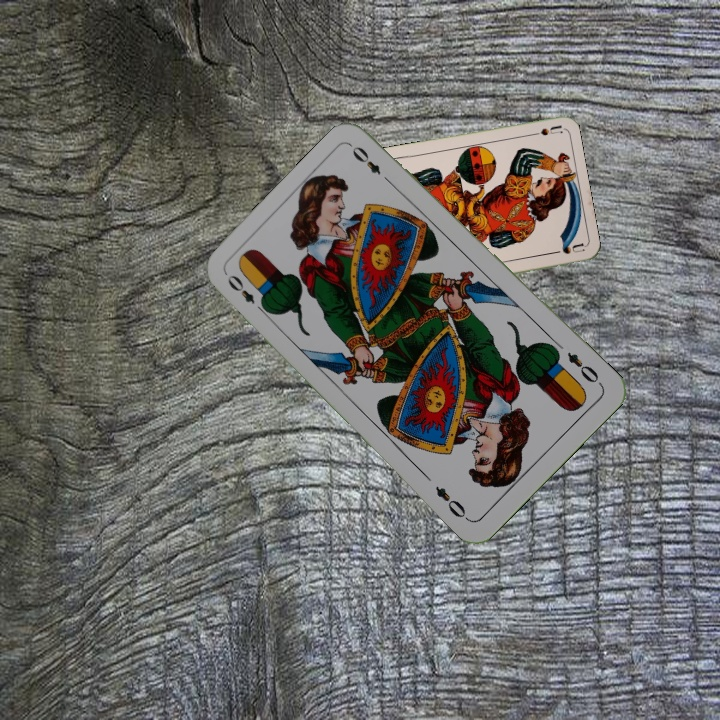EO: (223, 270, 270, 317), (563, 348, 605, 389)
SU: (523, 121, 564, 139)
